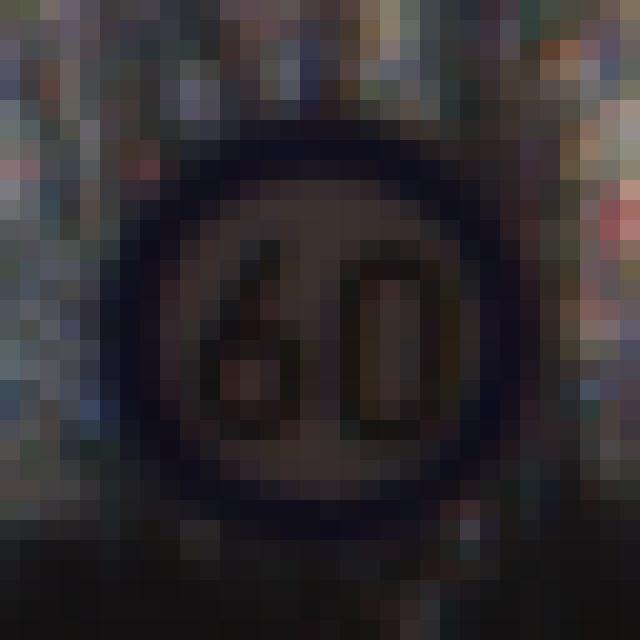SPEED-LIMIT-60: (106, 92, 548, 549)
